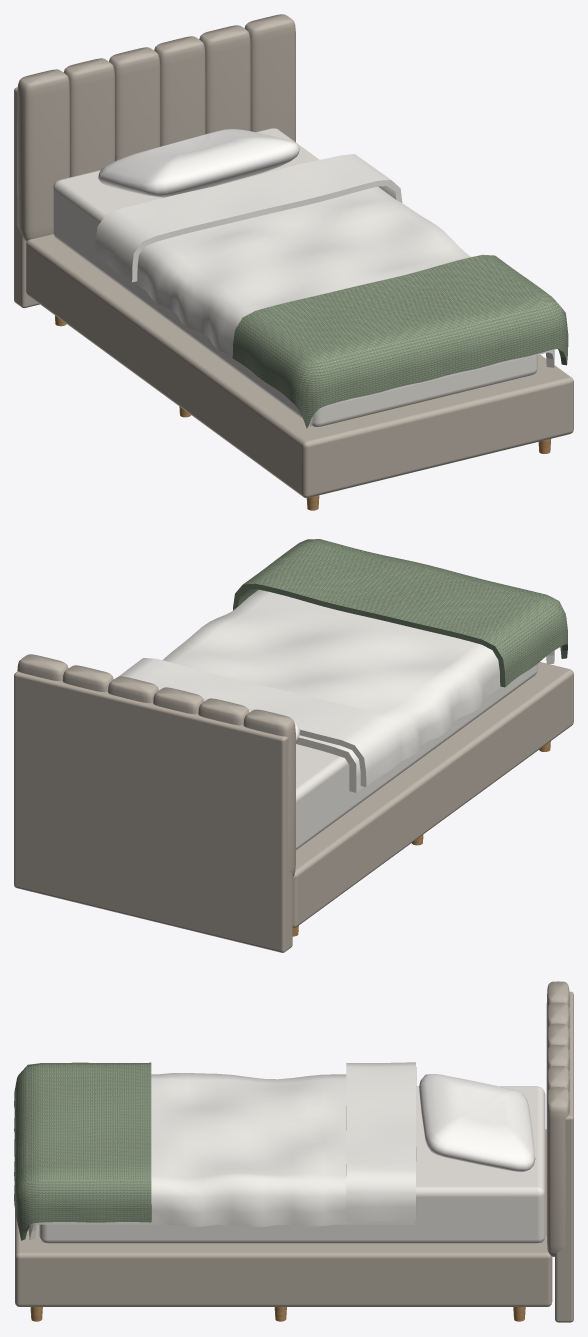
The model's file is bed_single.glb.
The picture shows the model from 3 angles, top to bottom: view 1: azimuth 30°, elevation 25°; view 2: azimuth 150°, elevation 25°; view 3: azimuth 270°, elevation 25°; orthographic projection. The views are drawn at different scales.
Parts seen in each view (by area): view 1: bed_single_frame, bed_single_throw, bed_single_headboard_channels, bed_single_duvet, bed_single_duvet_fold, bed_single_mattress, bed_single_pillow, bed_single_headboard; view 2: bed_single_headboard, bed_single_duvet, bed_single_frame, bed_single_throw, bed_single_duvet_fold, bed_single_headboard_channels, bed_single_mattress; view 3: bed_single_frame, bed_single_duvet, bed_single_throw, bed_single_mattress, bed_single_duvet_fold, bed_single_pillow, bed_single_headboard_channels, bed_single_headboard, bed_single_legs.
Part boxes in pixels (<box>): bed_single_frame: <box>26,234,573,498</box>; bed_single_throw: <box>232,254,568,428</box>; bed_single_headboard_channels: <box>17,14,295,241</box>; bed_single_duvet: <box>134,186,554,426</box>; bed_single_duvet_fold: <box>95,154,402,282</box>; bed_single_mattress: <box>53,128,537,426</box>; bed_single_pillow: <box>98,129,299,197</box>; bed_single_headboard: <box>14,87,39,308</box>; bed_single_headboard: <box>14,671,292,952</box>; bed_single_duvet: <box>162,589,554,792</box>; bed_single_frame: <box>292,662,573,927</box>; bed_single_throw: <box>233,539,567,687</box>; bed_single_duvet_fold: <box>119,658,402,786</box>; bed_single_headboard_channels: <box>17,654,295,876</box>; bed_single_mattress: <box>296,664,537,849</box>; bed_single_frame: <box>15,1129,552,1306</box>; bed_single_duvet: <box>28,1073,414,1240</box>; bed_single_throw: <box>14,1062,151,1240</box>; bed_single_mattress: <box>39,1086,545,1243</box>; bed_single_duvet_fold: <box>346,1062,416,1221</box>; bed_single_pillow: <box>419,1074,535,1171</box>; bed_single_headboard_channels: <box>546,981,569,1256</box>; bed_single_headboard: <box>555,991,573,1322</box>; bed_single_legs: <box>30,1307,525,1321</box>.
Size of the model in its own units: 1.11 by 0.9 by 2.05.
6 materials, 2 textured.
